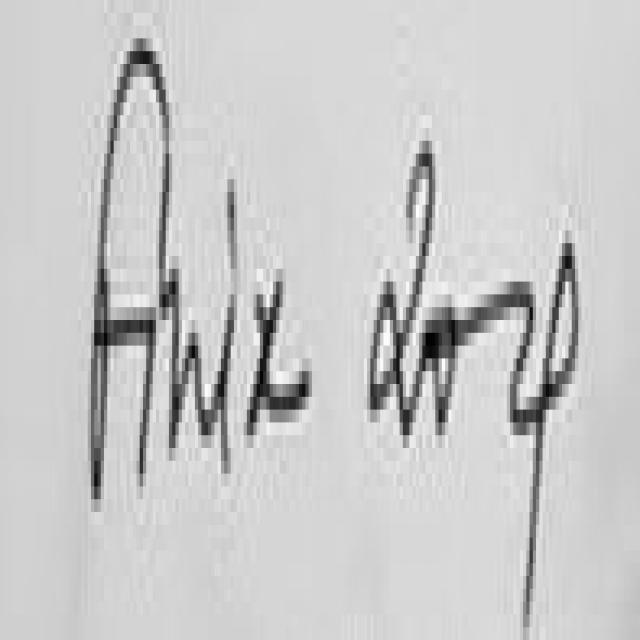0: (431, 277, 462, 444)
2: (354, 116, 457, 521)
F: (55, 8, 198, 574)
g: (499, 220, 593, 640)
i: (124, 146, 184, 491), (240, 214, 310, 492), (218, 149, 238, 498)
m: (464, 247, 538, 460)
n: (164, 264, 212, 469)
